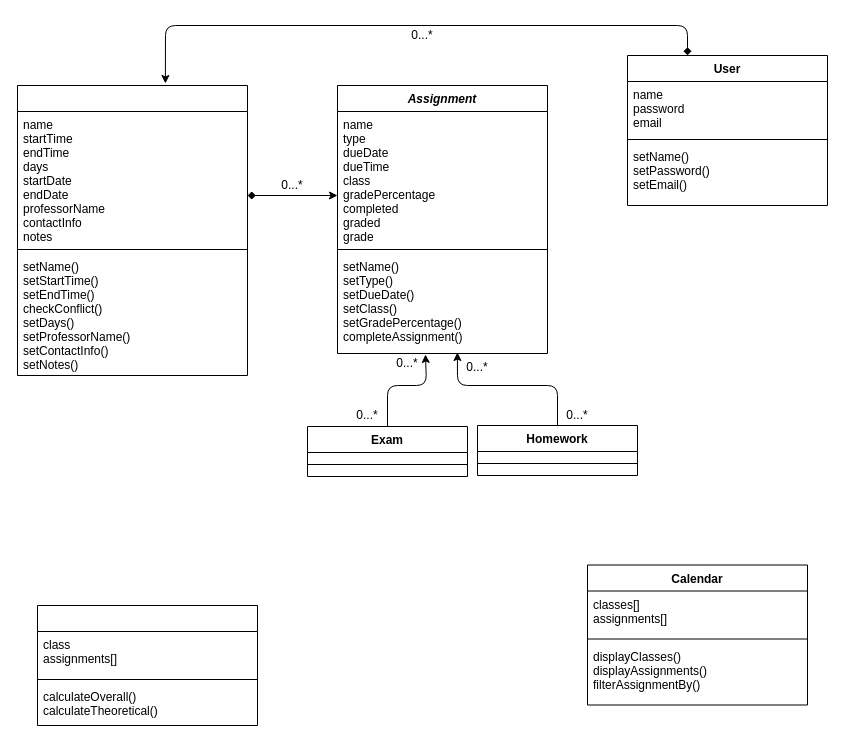
Some shapes in this 845 by 746 pixel diagram are drawn without their labels. The shapes that lost their labels are listed below. From the top down, each one's box as (x1, y1, x2, y2) in pixels, then its label:
(16, 84, 248, 376): Class
(36, 604, 258, 726): Grade
